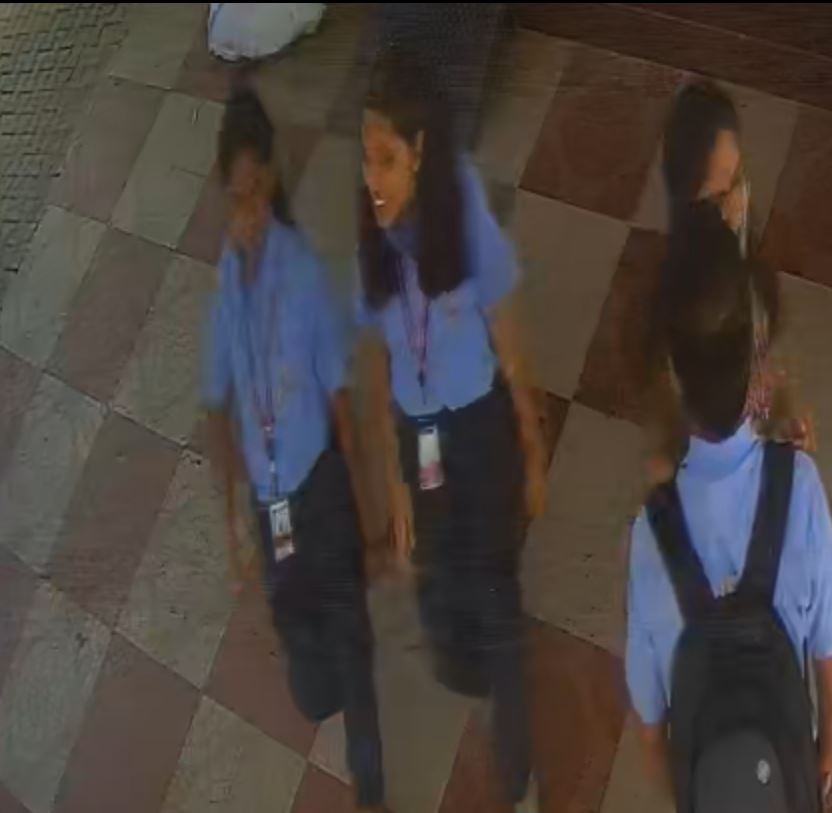intruder: (344, 88, 538, 813), (194, 85, 387, 794)
